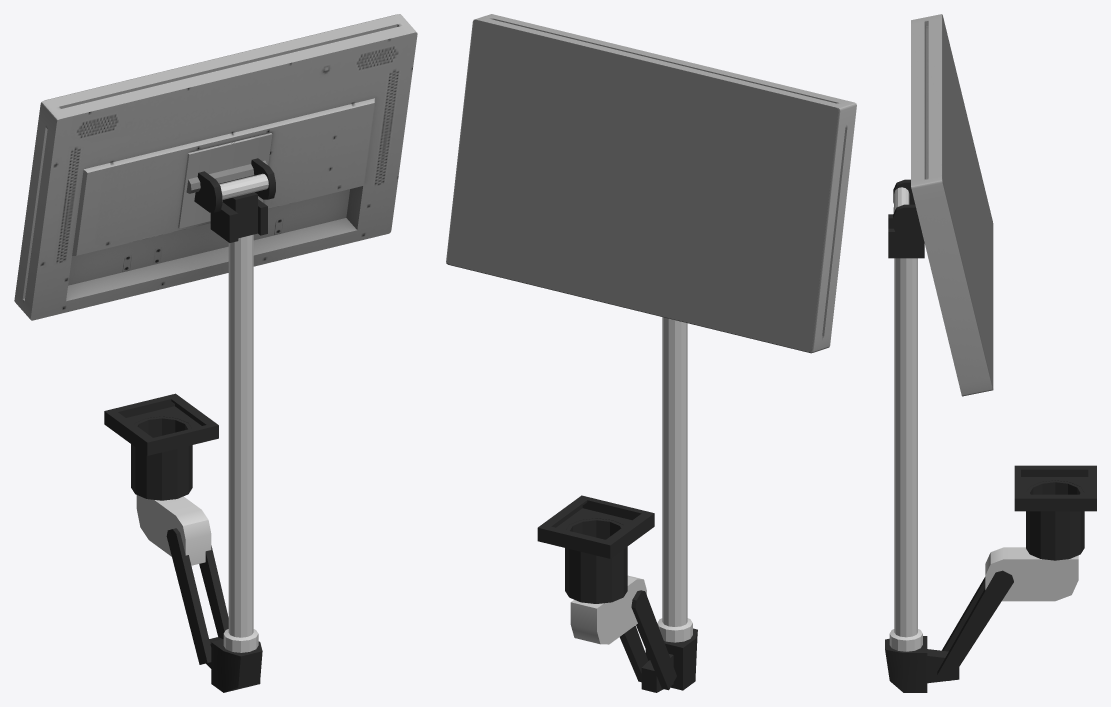
Rendered from UTC_520+Pole.fbx.
3 renders of one model, left to right at view 1: azimuth 30°, elevation 25°; view 2: azimuth 150°, elevation 25°; view 3: azimuth 270°, elevation 25°, orthographic. The views are drawn at different scales.
Visible parts, largest first — view 1: A, B; view 2: A, B; view 3: B, A.
Part boxes in pixels (box(x1,y1,x2,y2)): A: box(14, 14, 417, 320); B: box(104, 158, 275, 692); A: box(446, 14, 856, 353); B: box(537, 317, 697, 692); B: box(885, 179, 1096, 692); A: box(911, 14, 993, 396).
Bounding box in the file's own units: 51.96 × 84.87 × 27.75.
